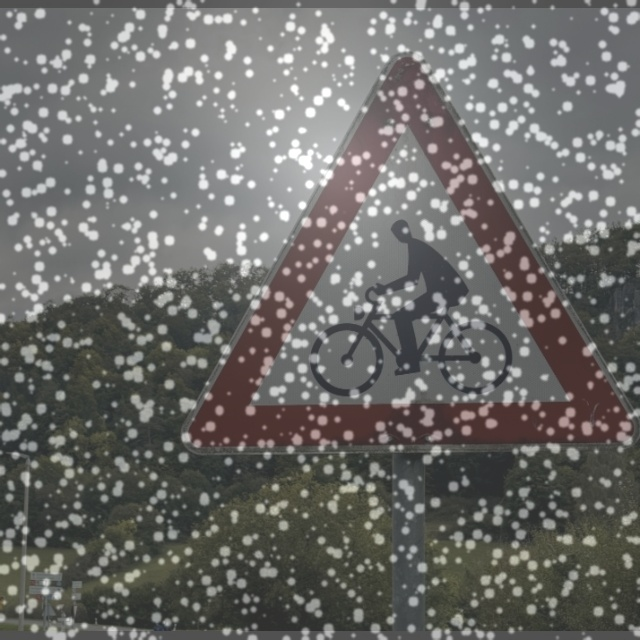Cycle_Crossing: (199, 47, 624, 457)
